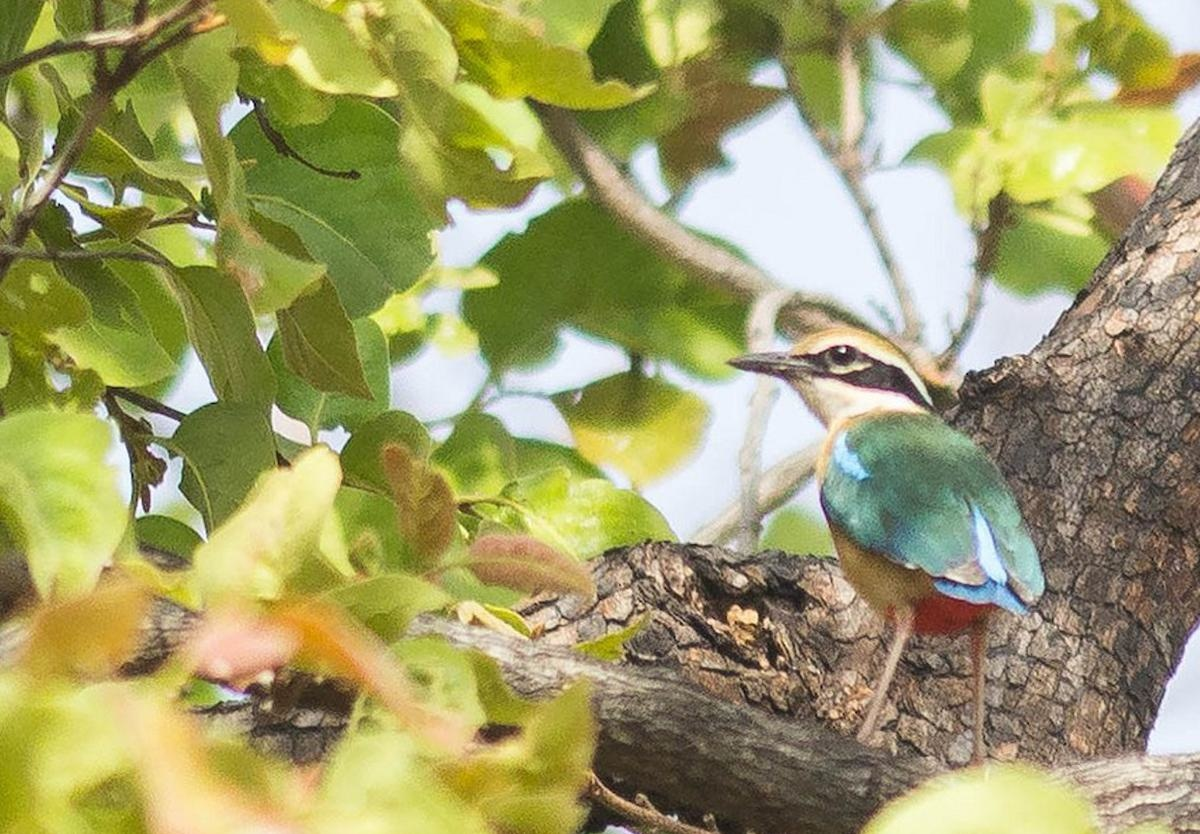pitta: (727, 272, 1067, 757)
